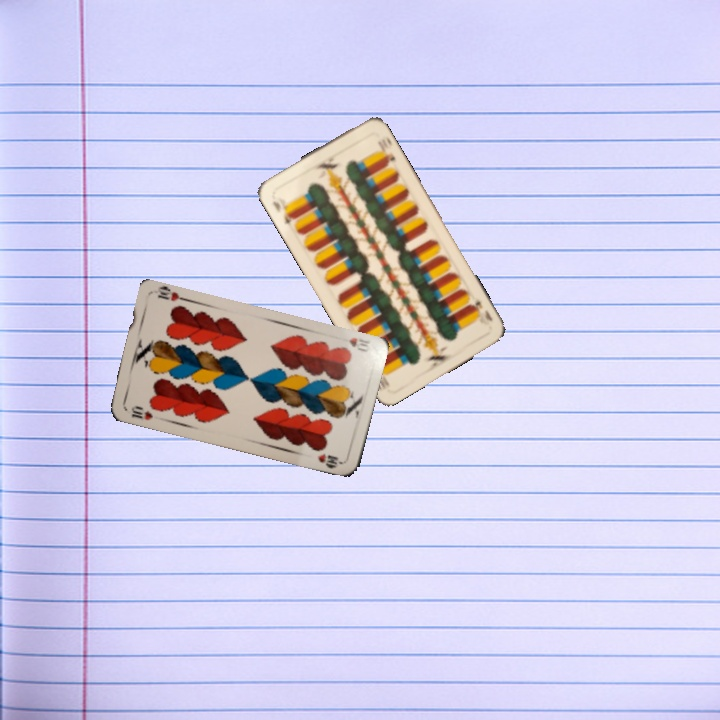E10: (268, 196, 297, 228), (466, 296, 495, 324)
H10: (345, 333, 374, 355), (127, 402, 156, 423)
